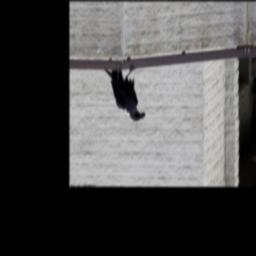Crow: (103, 58, 146, 123)
